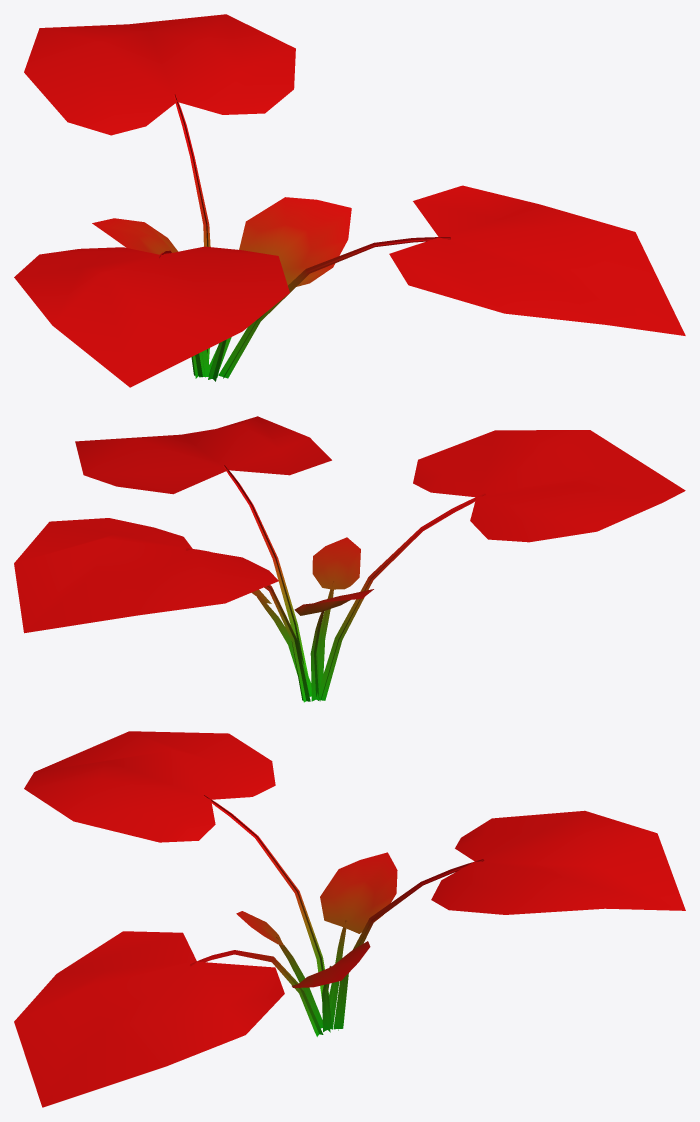
Rendered from Coltsfoot_LOD3_Var3_xbtkdfvqx.fbx.
3 renders of one model, top to bottom at view 1: azimuth 30°, elevation 25°; view 2: azimuth 150°, elevation 25°; view 3: azimuth 270°, elevation 25°, orthographic. The views are drawn at different scales.
Parts seen in each view (by area): view 1: _0aeb_Var3_LOD3; view 2: _0aeb_Var3_LOD3; view 3: _0aeb_Var3_LOD3.
Boxes of the visible parts, x1,y1,x2,y2 form: _0aeb_Var3_LOD3: (14,14,685,387); _0aeb_Var3_LOD3: (14,416,685,702); _0aeb_Var3_LOD3: (14,731,685,1107).
Bounding box in the file's own units: 25.45 × 9.15 × 26.5.
